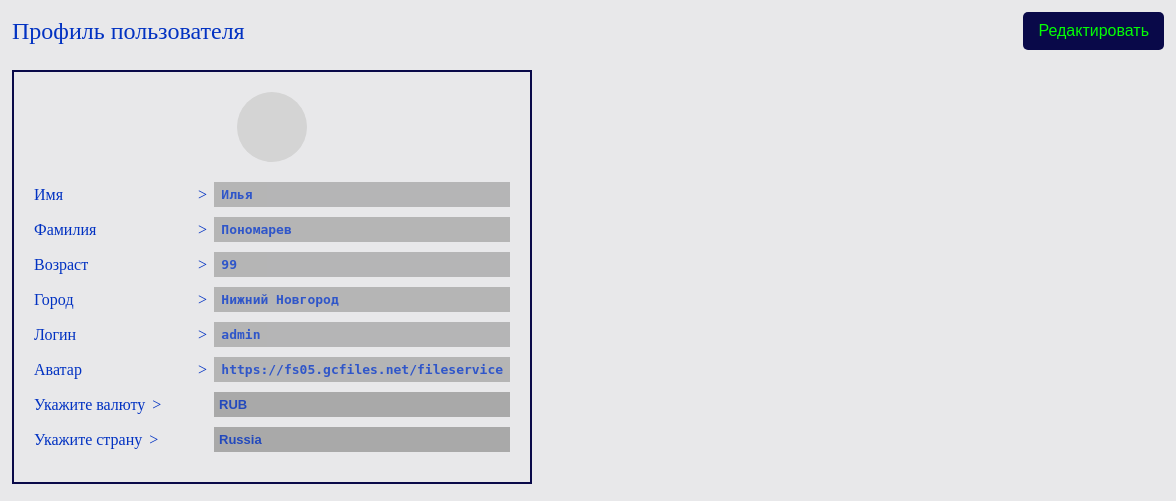
Test: features/EditableProfileCard › disable readonly mode
Step 1. Click the button with test id "EditableProfileCardHeader.EditButton" → (1094, 31), box [1024,12,1164,50]
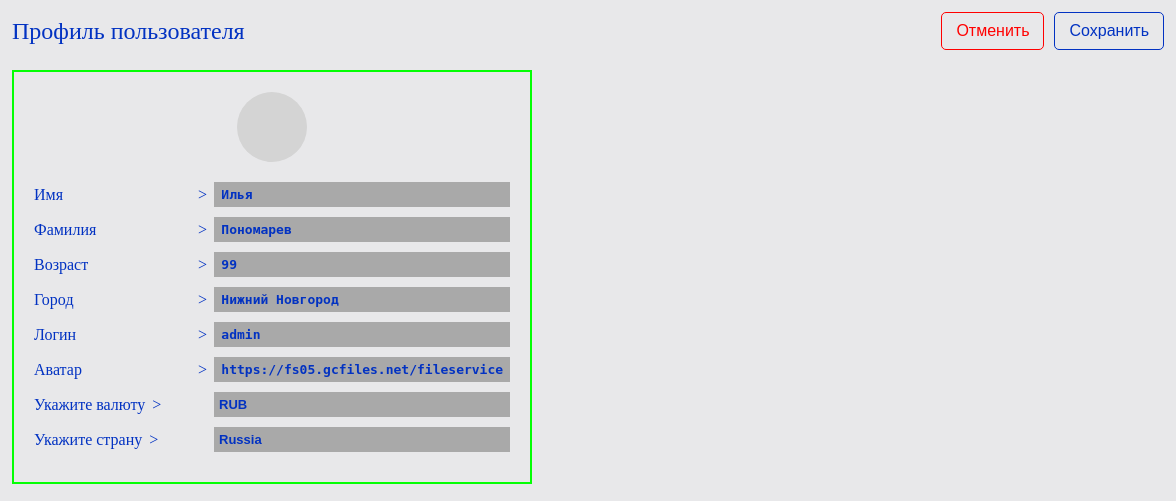
Expected: the button with test id "EditableProfileCardHeader.CancelButton" is shown, [941,12,1044,50]
